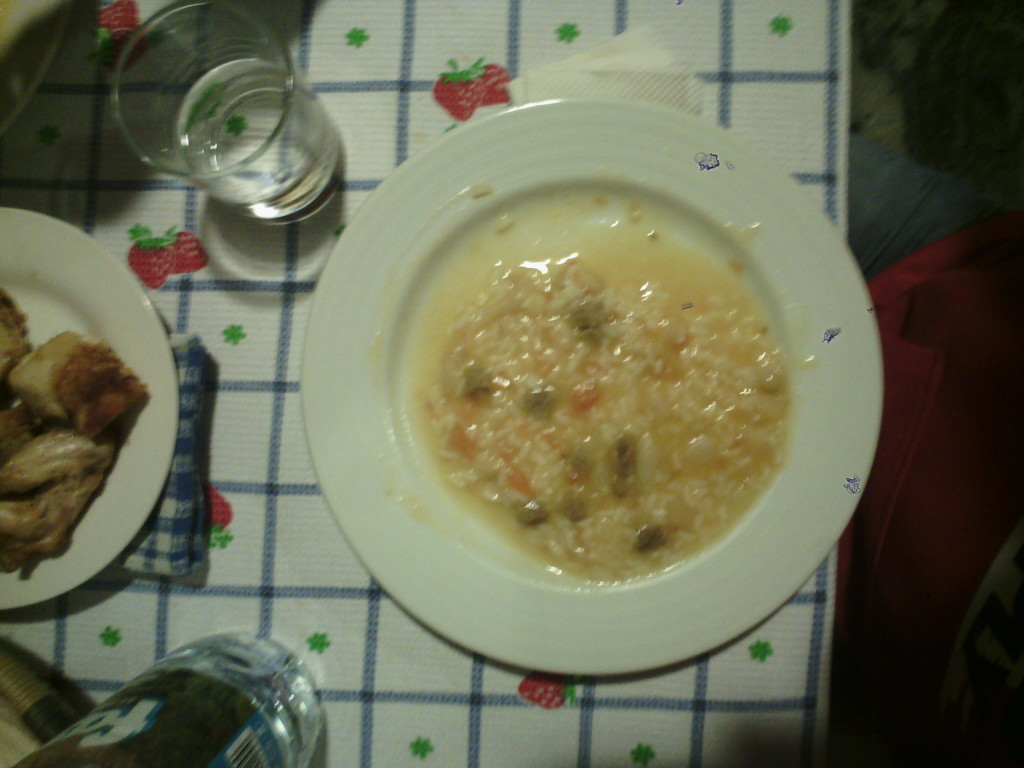41-60: (313, 102, 883, 686)
